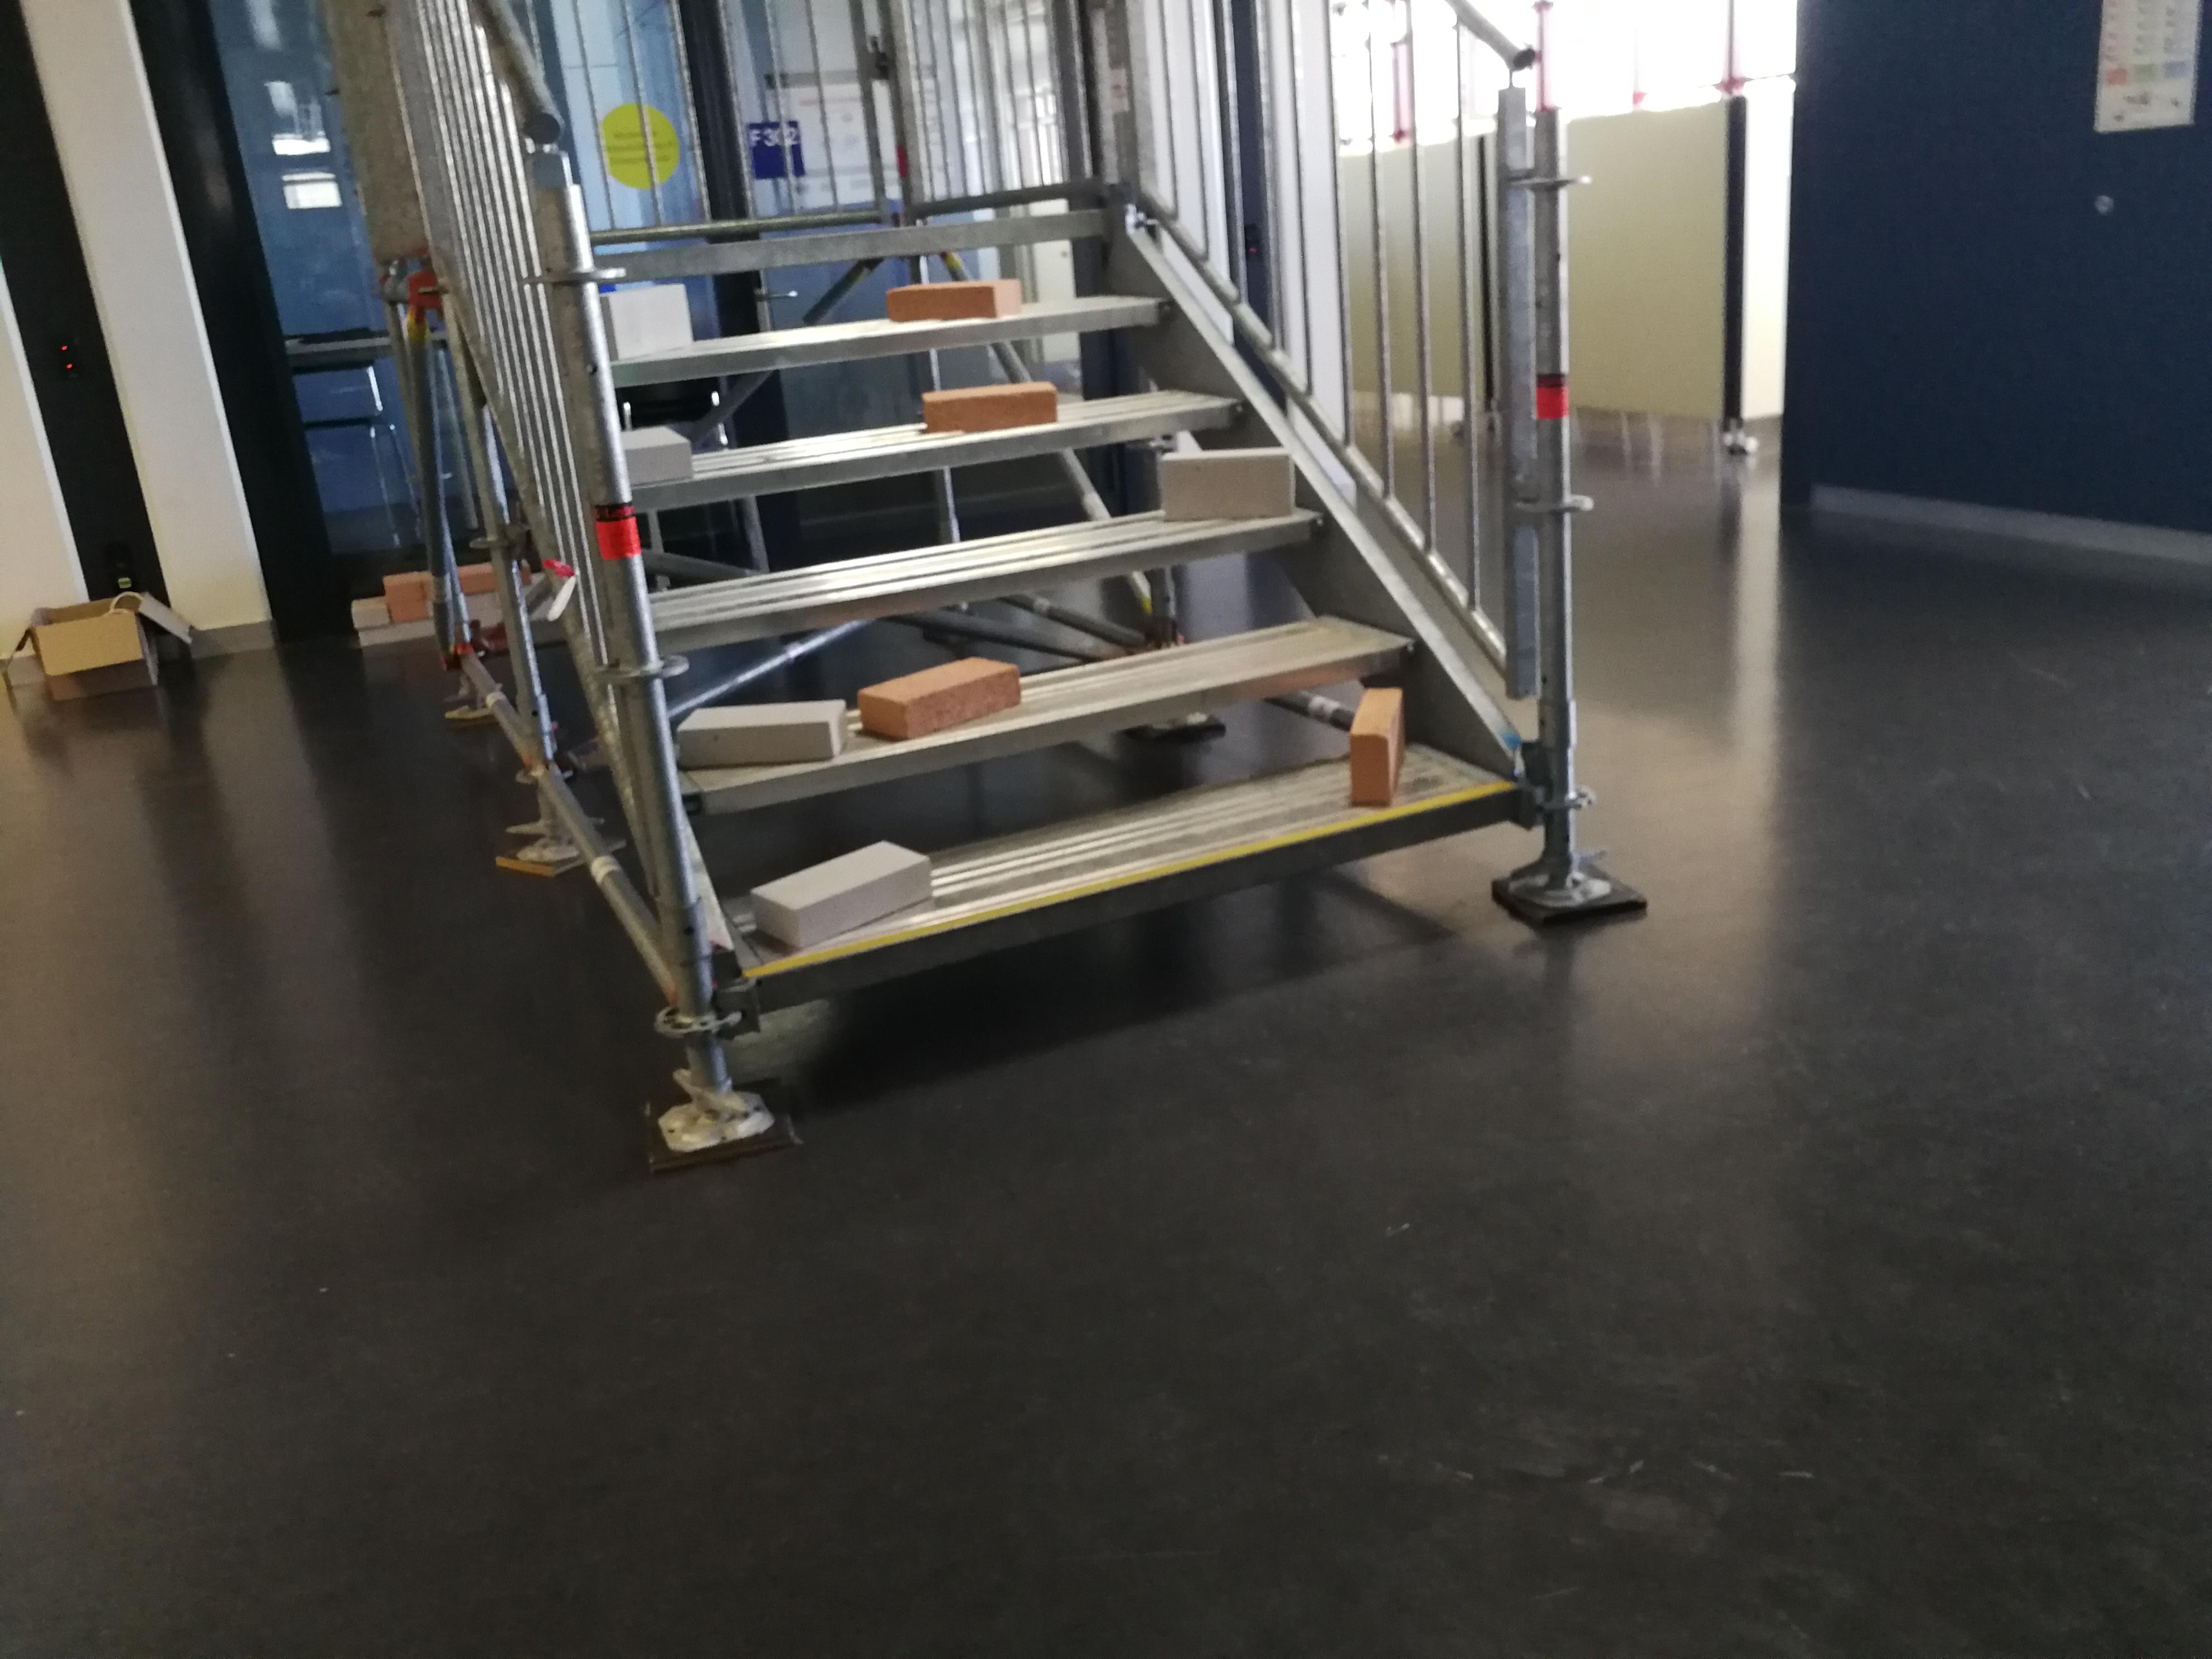brick: (751, 842, 928, 945), (860, 653, 1015, 739), (676, 699, 846, 762), (1162, 451, 1292, 518), (1350, 681, 1406, 803), (927, 380, 1055, 432), (606, 289, 688, 355), (885, 275, 1021, 314), (620, 429, 686, 484)
edge: (747, 782, 1519, 1004), (686, 634, 1407, 817), (651, 511, 1322, 660), (631, 397, 1233, 511), (608, 301, 1165, 387), (596, 206, 1104, 274)
stairs: (636, 2, 1649, 1169)
steps: (570, 192, 1533, 1025)
